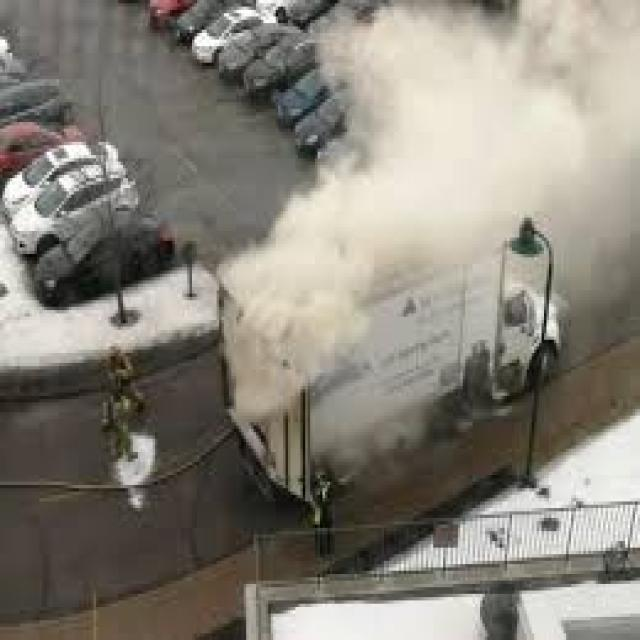Smoke: (214, 0, 640, 429)
